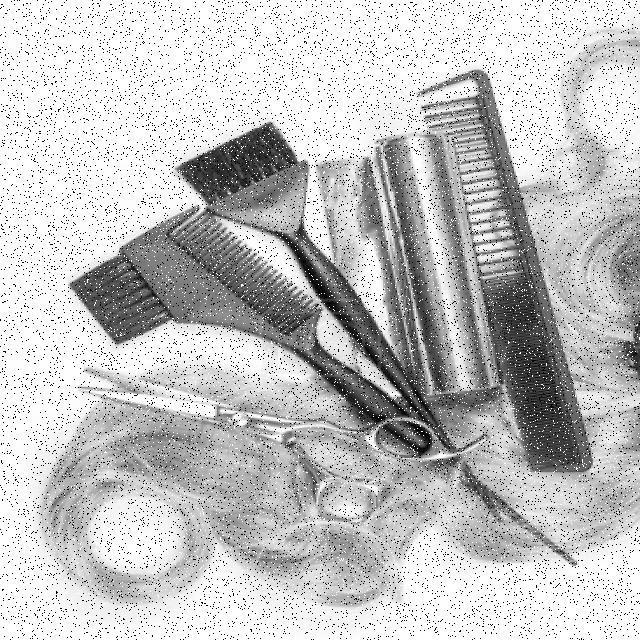scissors: (64, 355, 501, 547)
